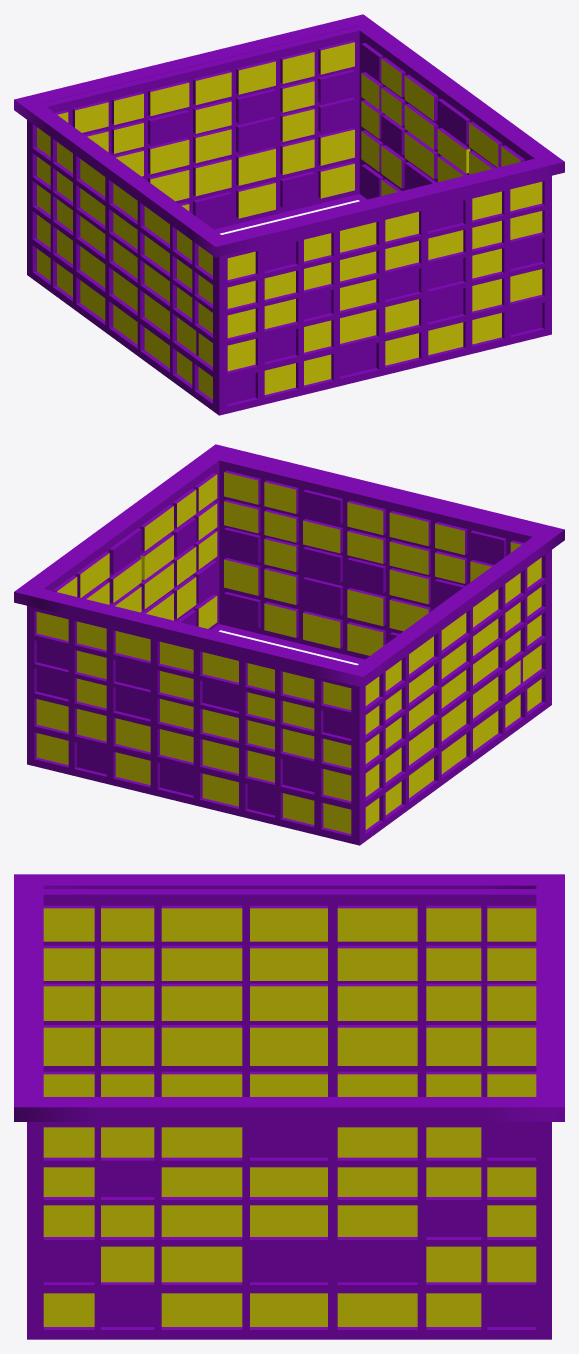
Rendered from Building_Large_Peice_002.fbx.
3 renders of one model, top to bottom at view 1: azimuth 30°, elevation 25°; view 2: azimuth 150°, elevation 25°; view 3: azimuth 270°, elevation 25°, orthographic. The views are drawn at different scales.
Visible parts, largest first — view 1: Building_Large_Piece_002; view 2: Building_Large_Piece_002; view 3: Building_Large_Piece_002.
Part boxes in pixels (x1,y1,x2,y2): Building_Large_Piece_002: [14, 14, 564, 415]; Building_Large_Piece_002: [14, 444, 564, 845]; Building_Large_Piece_002: [14, 874, 564, 1339].
Bounding box in the file's own units: 8400 × 4000 × 8400.
